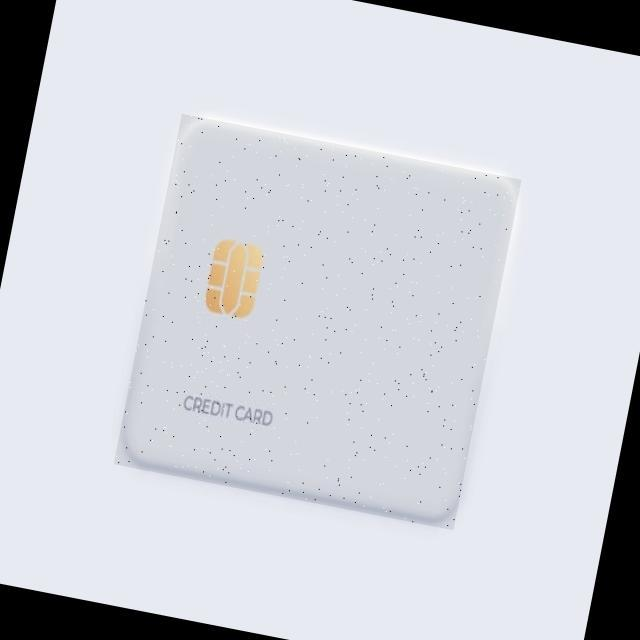payment_card: (113, 111, 522, 529)
